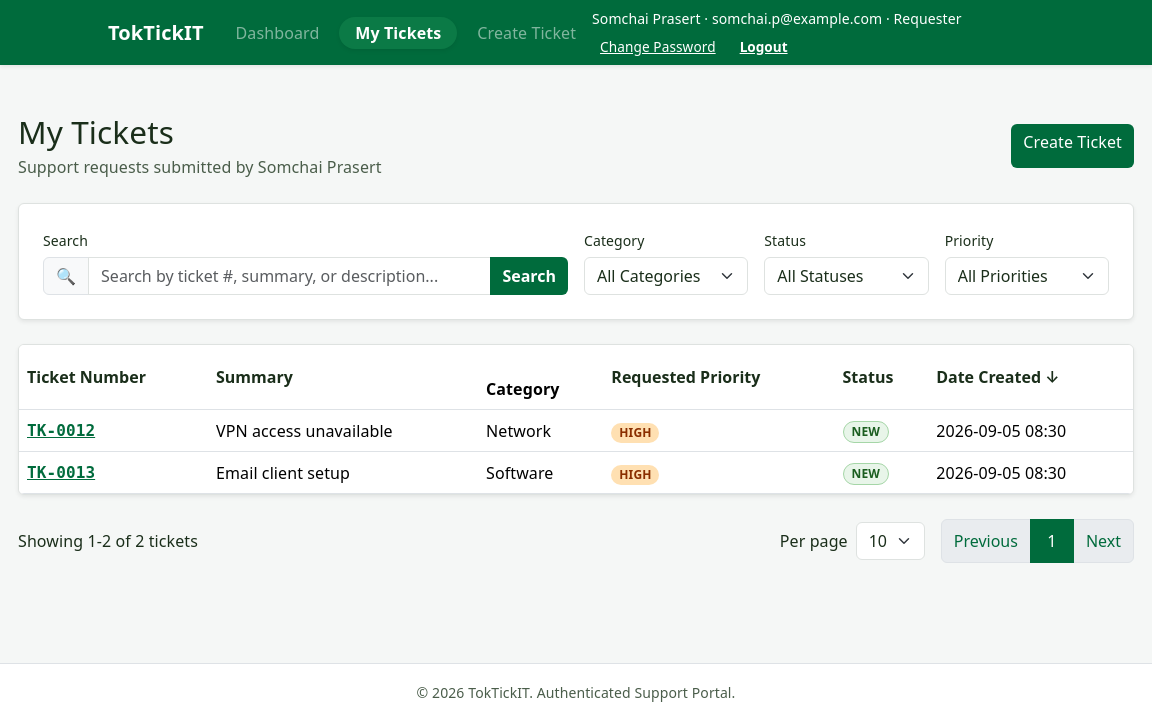
Test case: My Tickets screen › renders only the category-filtered records returned by the API
Select "Network" in the dropdown labelled "Category" at (666, 276), box top-left (584, 257), bottom-right (748, 295)
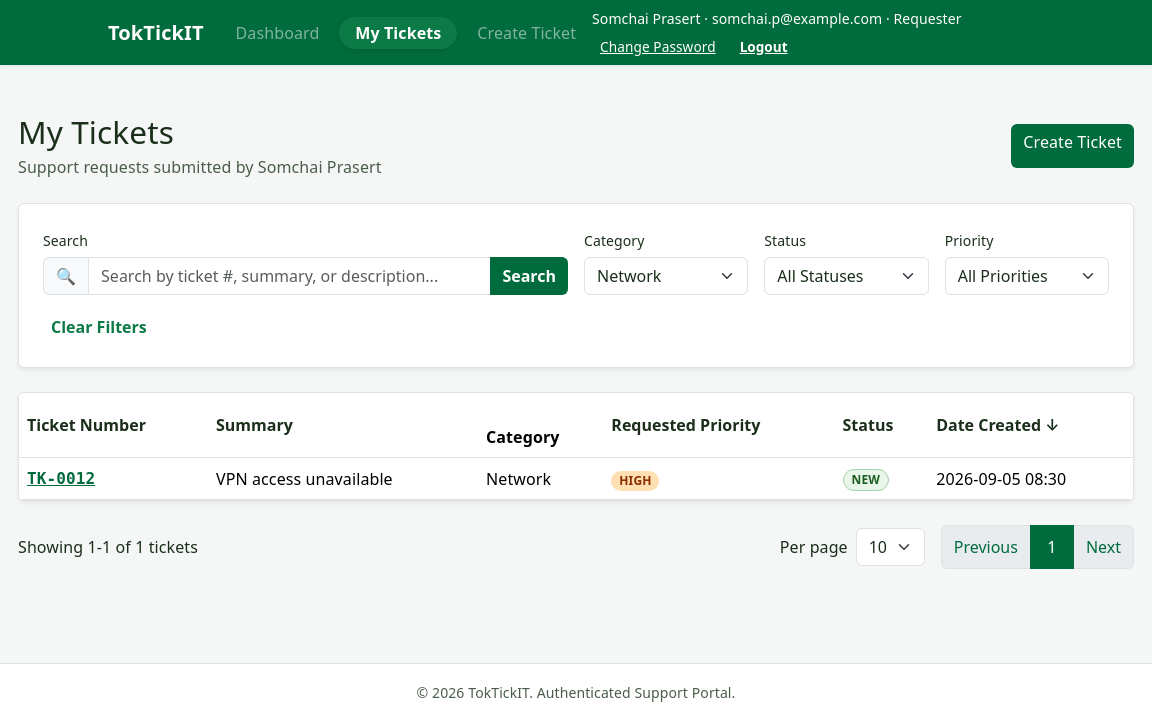
Check: the row that starts with "TK-0012" shows "VPN access unavailable", box top-left (216, 468), bottom-right (393, 490)
Check: the text "Email client setup" is gone
